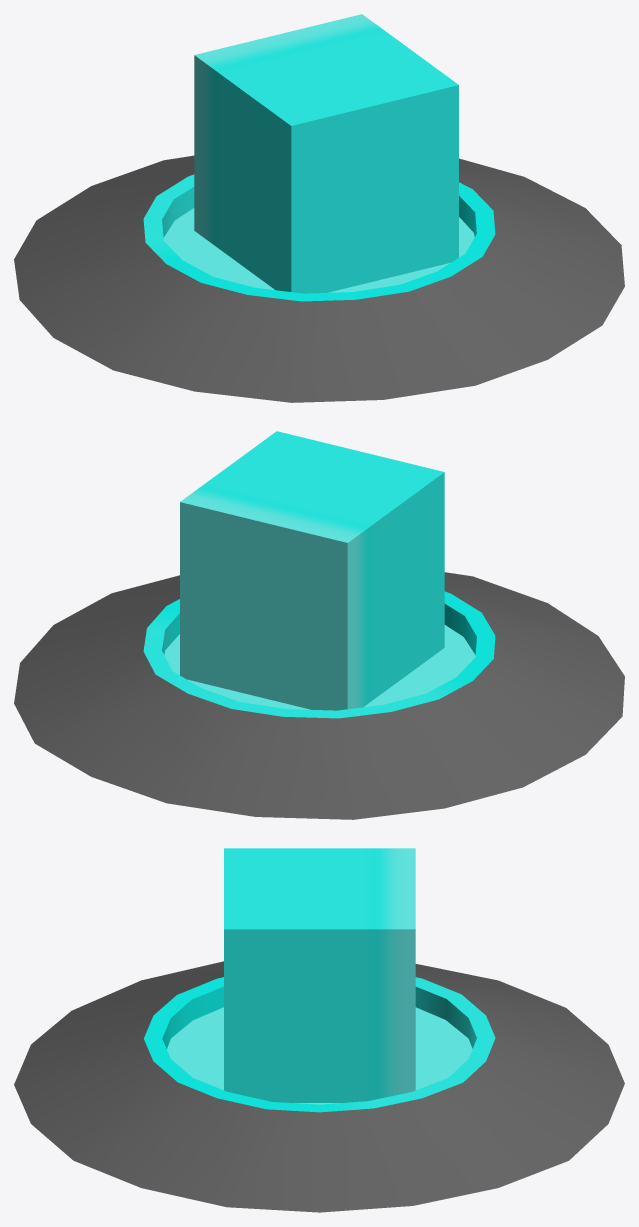
The model's file is Cubo.fbx.
3 renders of one model, top to bottom at view 1: azimuth 30°, elevation 25°; view 2: azimuth 150°, elevation 25°; view 3: azimuth 270°, elevation 25°, orthographic.
Parts seen in each view (by area): view 1: Interruttore2, Cubo2, Interruttore2Emissive; view 2: Interruttore2, Cubo2, Interruttore2Emissive; view 3: Interruttore2, Cubo2, Interruttore2Emissive.
Boxes of the visible parts, box(x1,y1,x2,y2) form: Interruttore2: box(14, 155, 624, 402); Cubo2: box(194, 14, 458, 293); Interruttore2Emissive: box(143, 174, 495, 301); Interruttore2: box(14, 572, 624, 819); Cubo2: box(180, 431, 444, 710); Interruttore2Emissive: box(143, 591, 495, 718); Interruttore2: box(14, 961, 624, 1212); Cubo2: box(224, 848, 415, 1102); Interruttore2Emissive: box(144, 977, 495, 1112).
Size of the model in its own units: 6.66 by 2.41 by 6.7.
